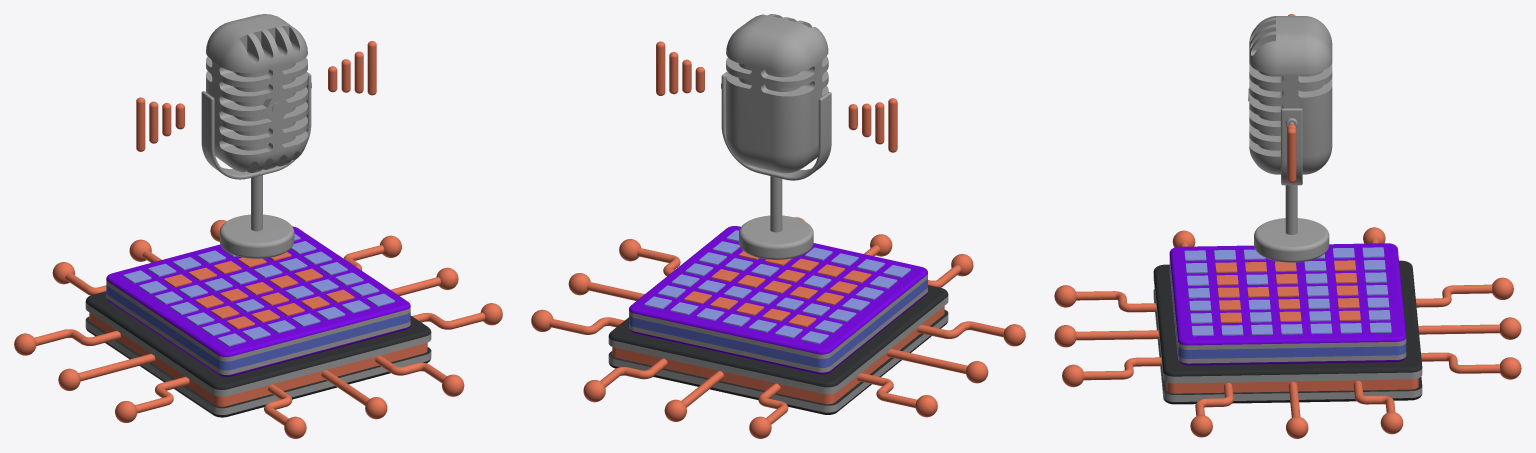
Rendered from ai-voice-generator-3d-animated-icon-608221006562.glb.
3 views of the same model, side by side, from view 1: azimuth 30°, elevation 25°; view 2: azimuth 150°, elevation 25°; view 3: azimuth 270°, elevation 25° (orthographic).
Visible parts, largest first — view 1: Cylinder.001, Pin, Cube.005, Cube.003, Cube.007, Cube.006, Cube.002, Cube.004, Cube.001, Cylinder.007, Cylinder.006; view 2: Cylinder.001, Pin, Cube.005, Cube.003, Cube.007, Cube.006, Cube.002, Cube.004, Cube.001, Cylinder.007, Cylinder.006; view 3: Cylinder.001, Pin, Cube.005, Cube.007, Cube.003, Cube.002, Cube.006, Cube.004, Cube.001, Cylinder.006.
Part boxes in pixels (x1,y1,x2,y2): Cylinder.001: (201,14,311,258); Pin: (14,220,502,438); Cube.005: (106,226,410,376); Cube.003: (123,233,394,346); Cube.007: (85,291,431,417); Cube.006: (85,302,431,414); Cube.002: (164,252,354,329); Cube.004: (106,280,410,374); Cube.001: (106,285,410,370); Cylinder.007: (136,97,145,151); Cylinder.006: (367,41,376,95); Cylinder.001: (721,14,831,259); Pin: (531,217,1025,438); Cube.005: (629,226,927,374); Cube.003: (644,230,910,344); Cube.007: (608,285,948,414); Cube.006: (608,296,948,412); Cube.002: (684,251,871,327); Cube.004: (629,274,927,372); Cube.001: (629,279,927,367); Cylinder.007: (888,98,897,152); Cylinder.006: (656,41,665,95); Cylinder.001: (1248,16,1332,262); Pin: (1054,227,1521,438); Cube.005: (1169,243,1406,365); Cube.007: (1153,260,1422,404); Cube.003: (1184,247,1391,336); Cube.002: (1215,260,1360,322); Cube.006: (1153,274,1422,401); Cube.004: (1169,256,1406,363); Cube.001: (1169,260,1406,358); Cylinder.006: (1287,128,1296,182).
Size of the model in its own units: 0.498 by 0.3751 by 0.4912.
